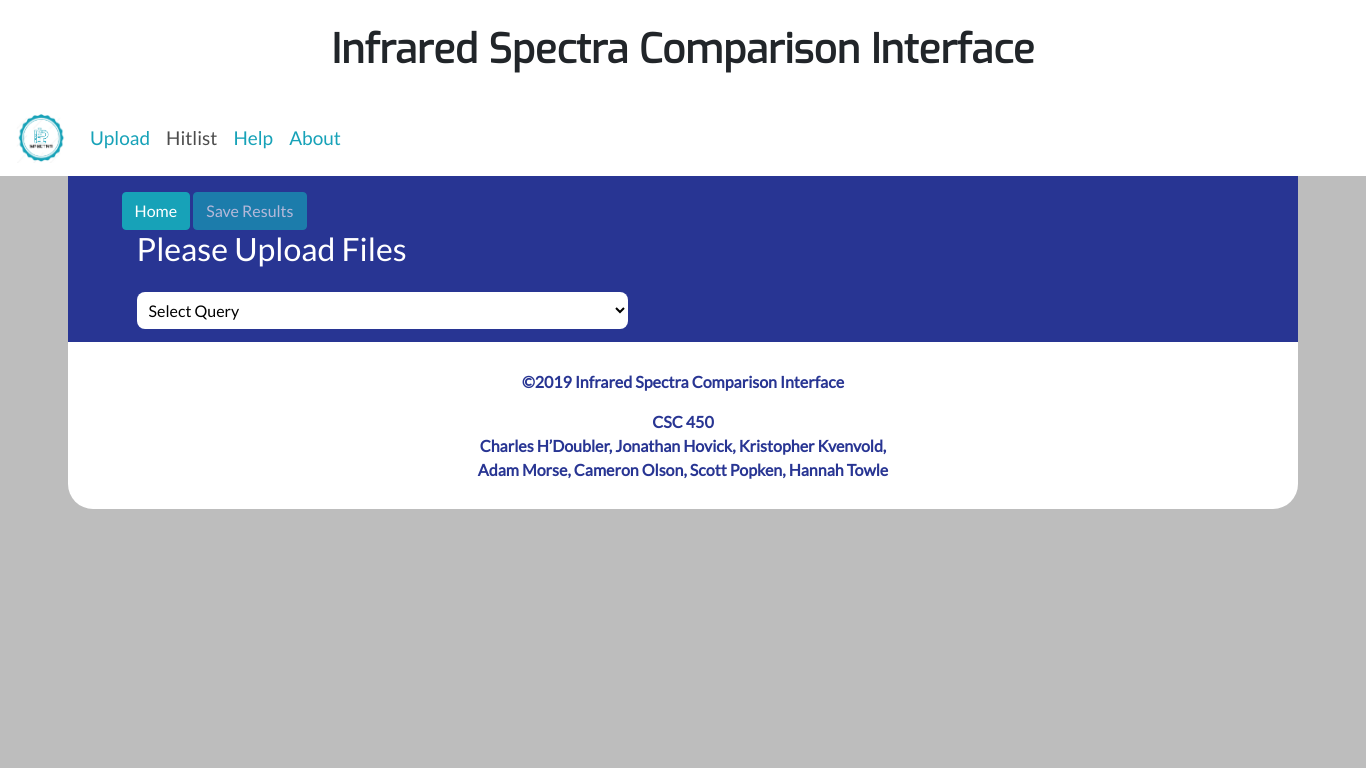
it: Default Page Loads › About Page Render
Click the link "About": (315, 138) x1=289 y1=126 x2=341 y2=149
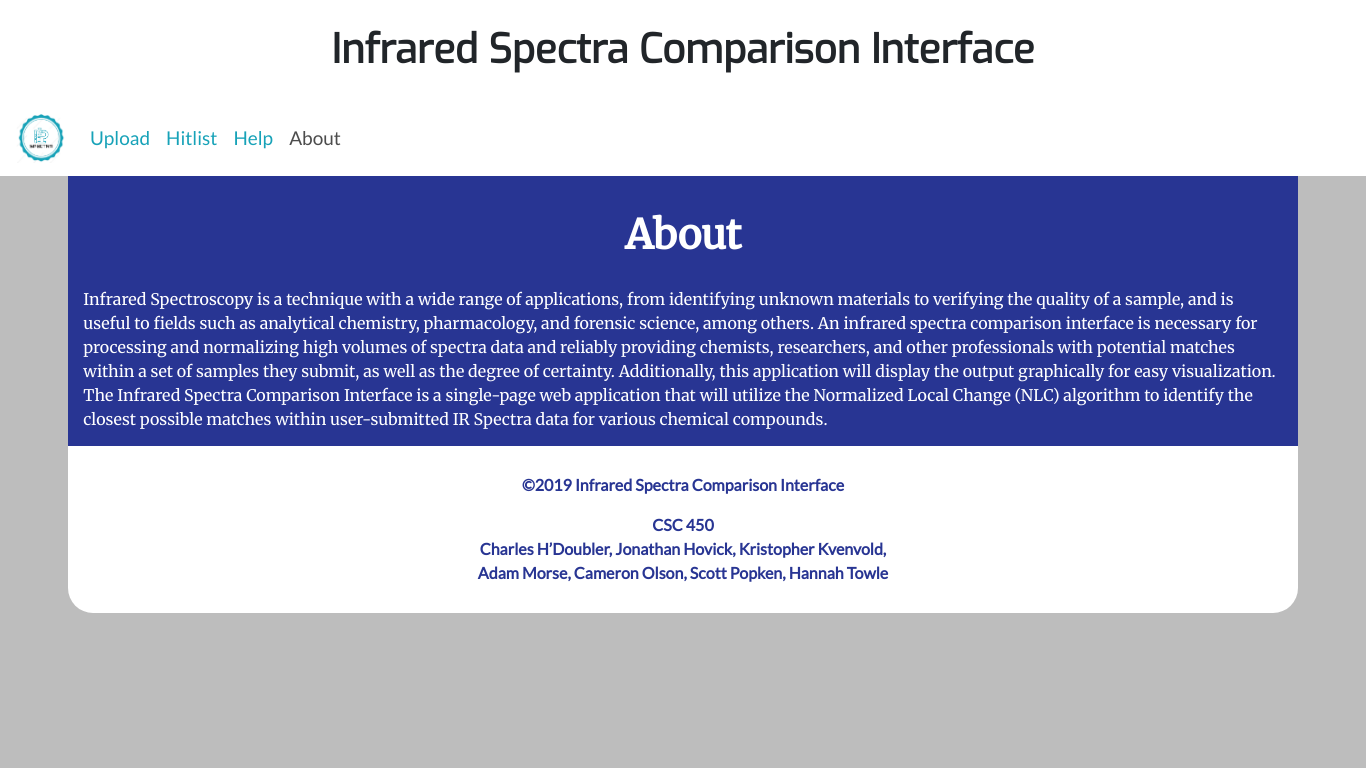
Check: the heading "About" is shown, box x1=625 y1=210 x2=741 y2=260
